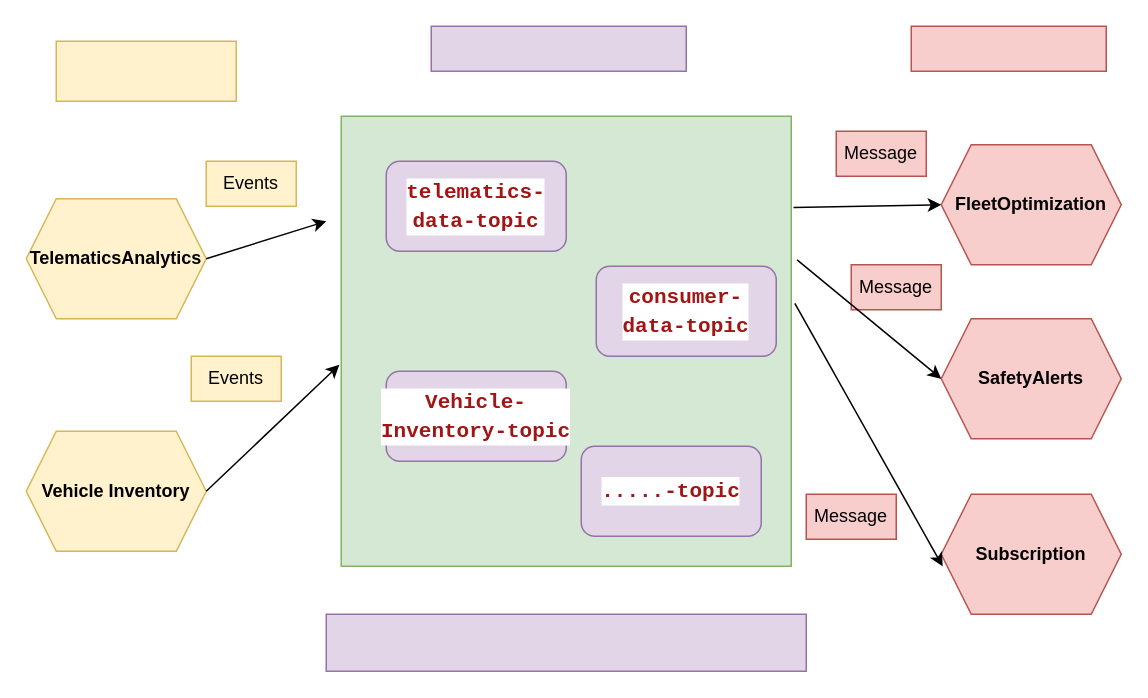
This 1148x698 diagram has some shape labels left out. The shapes that lost their labels are listed below. From the top down, each one's centre as x and y in pixels, then its label:
At point 558,48: "Broker /Topics".
At point 1008,48: "Consumers".
At point 145,70: "Producers".
At point 565,642: "Pub/Sub Messaging Channel".
